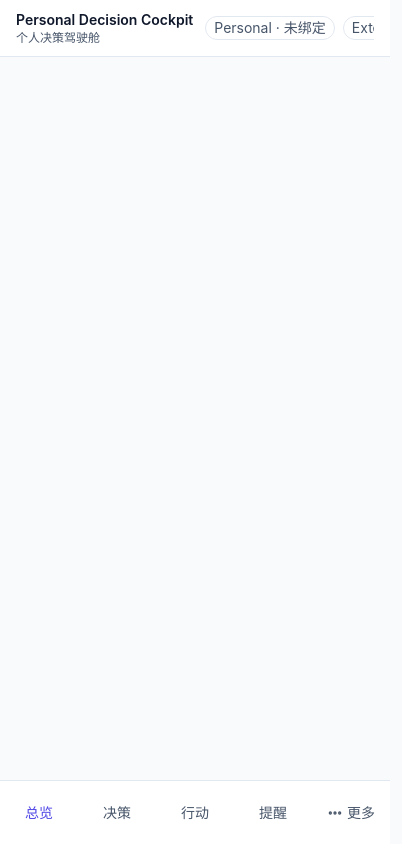
Cockpit navigation accessibility baseline › keeps mobile More navigation labelled and keyboard-toggleable
Click the button "更多".
click(351, 812)  # box left=312, top=781, right=390, bottom=843
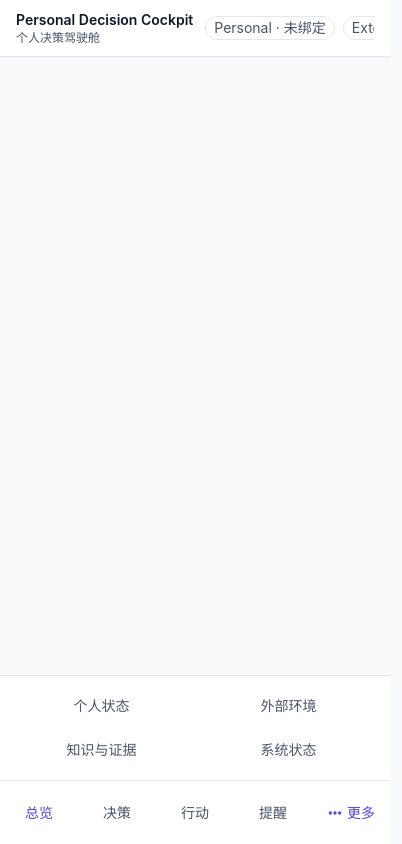
Now the button "更多" is expanded, box left=312, top=781, right=390, bottom=843
